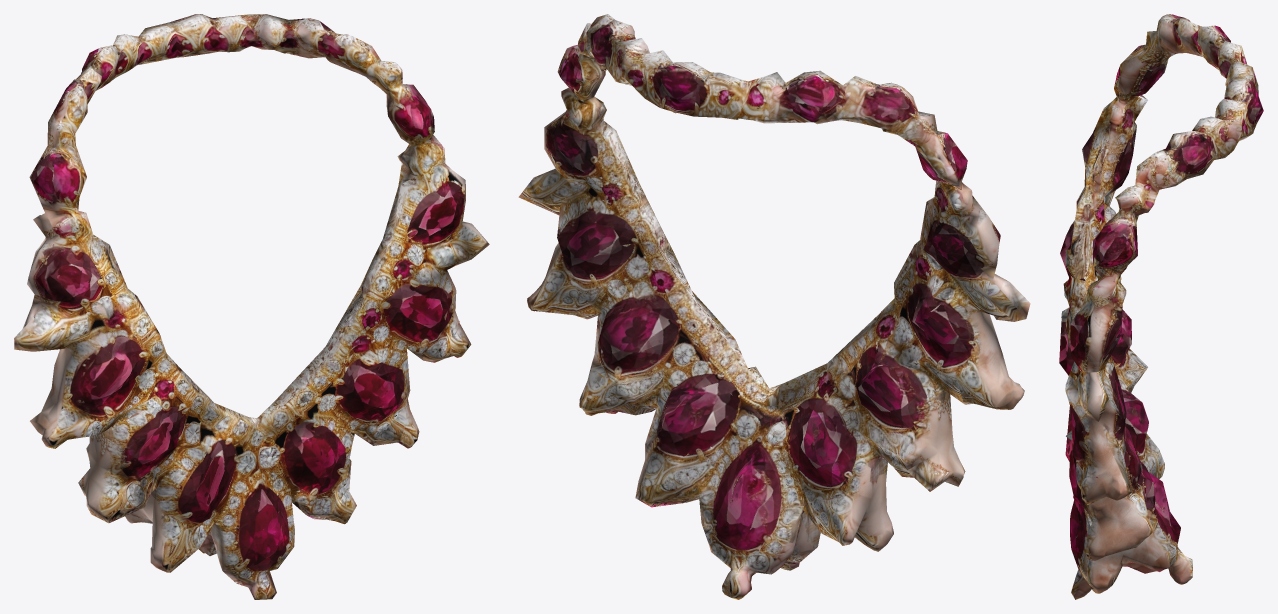
File: free_low_poly_ruby__diamond_gold_necklace.glb
The picture shows the model from 3 angles, left to right: view 1: azimuth 30°, elevation 25°; view 2: azimuth 150°, elevation 25°; view 3: azimuth 270°, elevation 25°; orthographic projection. The views are drawn at different scales.
Parts seen in each view (by area): view 1: Object_4; view 2: Object_4; view 3: Object_4.
Boxes of the visible parts, x1=… form: Object_4: x1=14, y1=14, x2=489, y2=599; Object_4: x1=518, y1=14, x2=1030, y2=599; Object_4: x1=1059, y1=14, x2=1263, y2=599.
Bounding box in the file's own units: 1.13 × 1.2 × 0.4232.
Materials: 1 (1 with a texture image).
